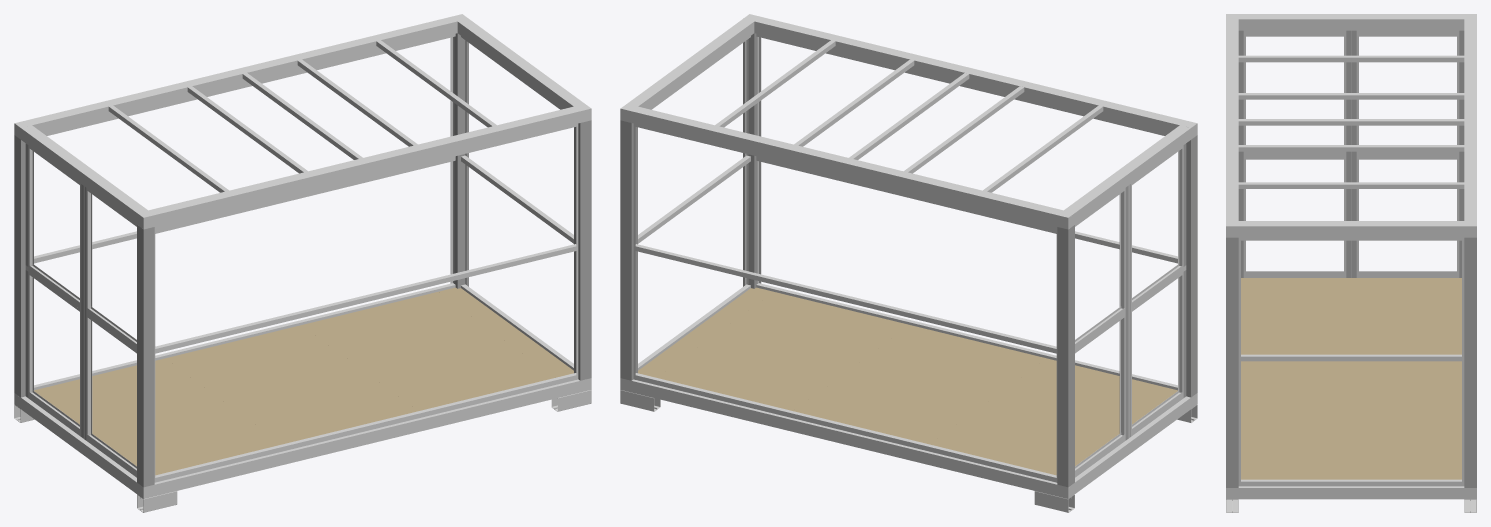
The model's file is structure.glb.
3 renders of one model, left to right at view 1: azimuth 30°, elevation 25°; view 2: azimuth 150°, elevation 25°; view 3: azimuth 270°, elevation 25°, orthographic. The views are drawn at different scales.
Parts seen in each view (by area): view 1: Floor Piso fenolico [367975], Floor Piso fenolico [367982], Floor Piso fenolico [367968], Viga Caño estructural 100x100 [307668], Viga Caño estructural 100x100 [307672], Viga Caño estructural 100x100 [307698], Columna Caño galvanizado estructural 100x100 [309669], Columna Caño galvanizado estructural 100x100 [309116], Viga Caño estructural 40x40 [319329], Viga Caño estructural 40x40 [314573], Columna Caño galvanizado estructural 100x100 [309759], Columna Caño galvanizado estructural 100x100 [309761] (+19 smaller); view 2: Floor Piso fenolico [367975], Floor Piso fenolico [367982], Floor Piso fenolico [367968], Viga Caño estructural 100x100 [307672], Viga Caño estructural 100x100 [307668], Viga Caño estructural 100x100 [307702], Columna Caño galvanizado estructural 100x100 [309761], Columna Caño galvanizado estructural 100x100 [309759], Viga Caño estructural 40x40 [319331], Viga Caño estructural 40x40 [314697], Columna Caño galvanizado estructural 100x100 [309669], Viga Caño estructural 100x100 [307674] (+20 smaller); view 3: Floor Piso fenolico [367982], Floor Piso fenolico [367968], Floor Piso fenolico [367975], Viga Caño estructural 100x100 [307670], Viga Caño estructural 100x100 [307674], Viga Caño estructural 100x100 [307700], Columna Caño galvanizado estructural 100x100 [309116], Columna Caño galvanizado estructural 100x100 [309759], Viga Caño estructural 100x100 [307668], Viga Caño estructural 100x100 [307672], Viga Caño estructural 40x40 [371702], Viga Caño estructural 40x40 [314554] (+24 smaller).
Part boxes in pixels (bbox=[...]): Floor Piso fenolico [367975]: bbox=[165, 325, 418, 444]; Floor Piso fenolico [367982]: bbox=[302, 292, 554, 410]; Floor Piso fenolico [367968]: bbox=[34, 358, 281, 475]; Viga Caño estructural 100x100 [307668]: bbox=[137, 104, 591, 229]; Viga Caño estructural 100x100 [307672]: bbox=[14, 17, 457, 139]; Viga Caño estructural 100x100 [307698]: bbox=[137, 378, 591, 498]; Columna Caño galvanizado estructural 100x100 [309669]: bbox=[137, 225, 154, 487]; Columna Caño galvanizado estructural 100x100 [309116]: bbox=[574, 120, 591, 380]; Viga Caño estructural 40x40 [319329]: bbox=[155, 244, 576, 353]; Viga Caño estructural 40x40 [314573]: bbox=[155, 373, 576, 482]; Columna Caño galvanizado estructural 100x100 [309759]: bbox=[454, 33, 468, 288]; Columna Caño galvanizado estructural 100x100 [309761]: bbox=[14, 135, 25, 397]; Floor Piso fenolico [367975]: bbox=[793, 325, 1046, 444]; Floor Piso fenolico [367982]: bbox=[657, 292, 910, 410]; Floor Piso fenolico [367968]: bbox=[930, 358, 1177, 475]; Viga Caño estructural 100x100 [307672]: bbox=[620, 106, 1074, 229]; Viga Caño estructural 100x100 [307668]: bbox=[743, 14, 1197, 139]; Viga Caño estructural 100x100 [307702]: bbox=[620, 378, 1074, 498]; Columna Caño galvanizado estructural 100x100 [309761]: bbox=[1057, 225, 1074, 487]; Columna Caño galvanizado estructural 100x100 [309759]: bbox=[620, 120, 637, 380]; Viga Caño estructural 40x40 [319331]: bbox=[635, 244, 1056, 353]; Viga Caño estructural 40x40 [314697]: bbox=[635, 373, 1056, 482]; Columna Caño galvanizado estructural 100x100 [309669]: bbox=[1186, 135, 1197, 397]; Viga Caño estructural 100x100 [307674]: bbox=[1064, 124, 1197, 228]; Floor Piso fenolico [367982]: bbox=[1241, 407, 1461, 472]; Floor Piso fenolico [367968]: bbox=[1241, 278, 1461, 342]; Floor Piso fenolico [367975]: bbox=[1241, 342, 1461, 407]; Viga Caño estructural 100x100 [307670]: bbox=[1226, 221, 1476, 237]; Viga Caño estructural 100x100 [307674]: bbox=[1238, 14, 1464, 30]; Viga Caño estructural 100x100 [307700]: bbox=[1226, 486, 1476, 499]; Columna Caño galvanizado estructural 100x100 [309116]: bbox=[1226, 237, 1238, 487]; Columna Caño galvanizado estructural 100x100 [309759]: bbox=[1464, 237, 1476, 487]; Viga Caño estructural 100x100 [307668]: bbox=[1226, 14, 1238, 237]; Viga Caño estructural 100x100 [307672]: bbox=[1464, 14, 1476, 220]; Viga Caño estructural 40x40 [371702]: bbox=[1238, 55, 1464, 62]; Viga Caño estructural 40x40 [314554]: bbox=[1241, 479, 1461, 486].
Bounding box in the file's own units: 4 × 2.52 × 2.
